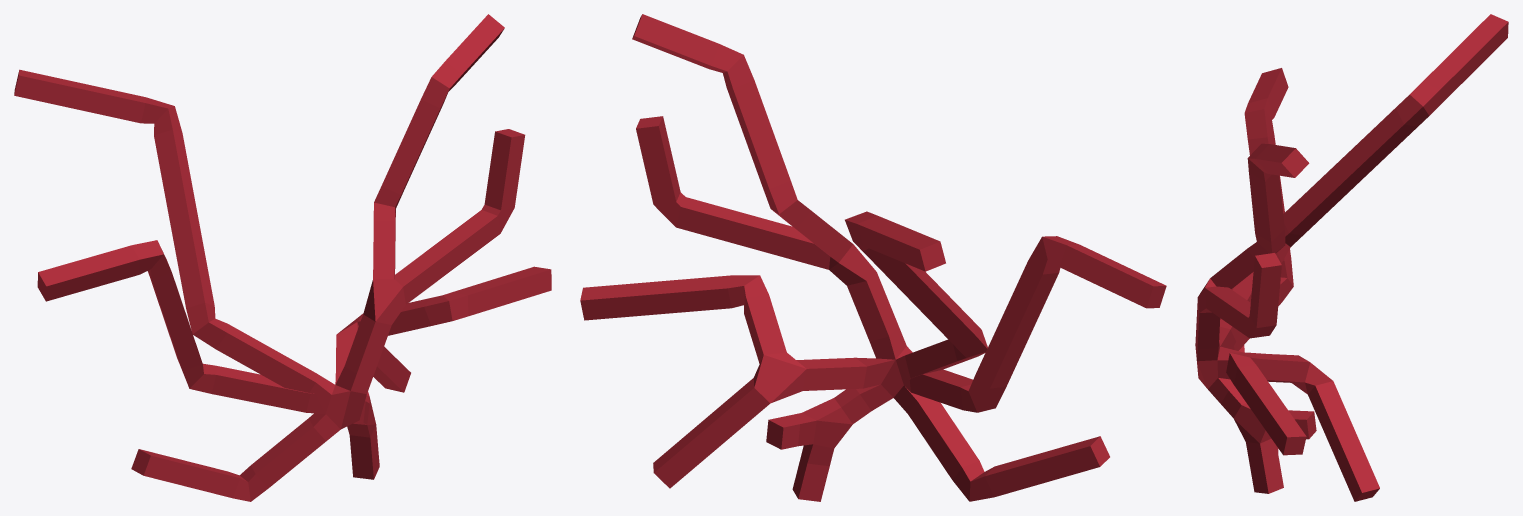
Rendered from Sea Weed V01.fbx.
3 views of the same model, side by side, from view 1: azimuth 30°, elevation 25°; view 2: azimuth 150°, elevation 25°; view 3: azimuth 270°, elevation 25° (orthographic). The views are drawn at different scales.
Parts seen in each view (by area): view 1: 큐브; view 2: 큐브; view 3: 큐브.
Boxes of the visible parts, x1,y1,x2,y2 form: 큐브: (14,14,551,501); 큐브: (580,14,1166,501); 큐브: (1195,14,1508,501).
Size of the model in its own units: 138 by 106 by 73.76.
